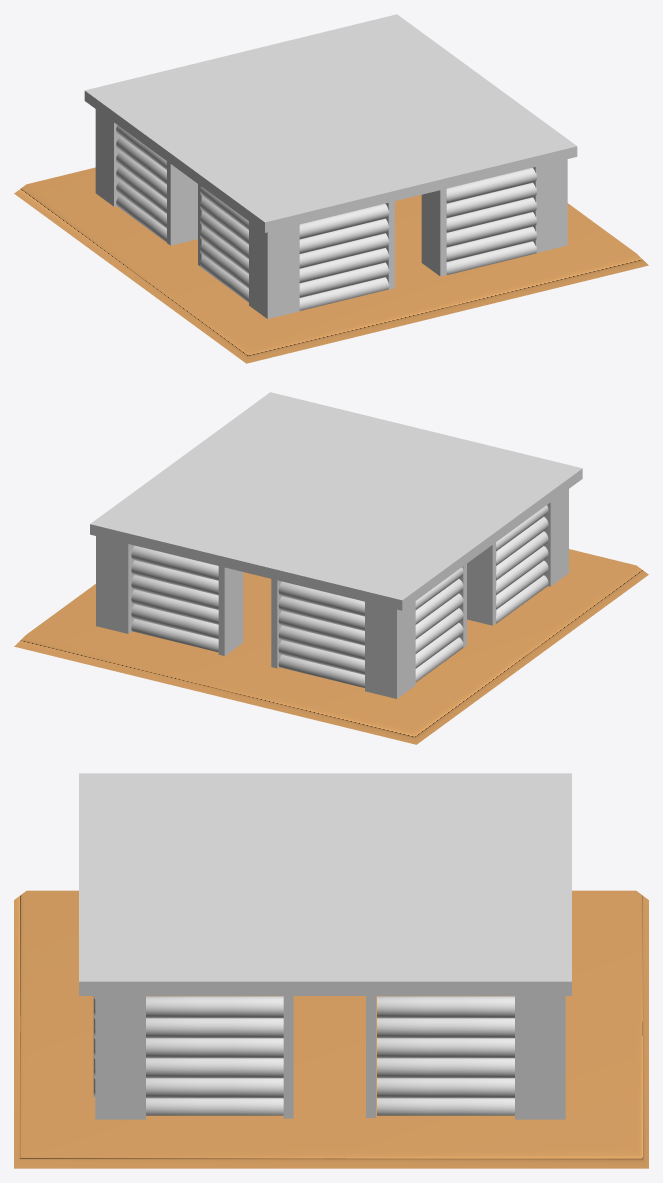
The model's file is fallback.glb.
3 views of the same model, one above another, from view 1: azimuth 30°, elevation 25°; view 2: azimuth 150°, elevation 25°; view 3: azimuth 270°, elevation 25° (orthographic). The views are drawn at different scales.
Parts seen in each view (by area): view 1: Cube.004, Cube, Cylinder.001, Cylinder.002, Cube.001, Cube.002, Cube.007, Cube.008, Cube.003; view 2: Cube.004, Cube, Cylinder.001, Cylinder.002, Cube.003, Cube.005, Cube.006, Cube.008, Cube.001; view 3: Cube.004, Cube, Cylinder.002, Cube.002, Cube.005, Cube.009.
Part boxes in pixels (x1=…): Cube.004: x1=84, y1=14, x2=577, y2=232; Cube: x1=14, y1=167, x2=648, y2=363; Cylinder.001: x1=299, y1=167, x2=536, y2=310; Cylinder.002: x1=116, y1=125, x2=248, y2=302; Cube.001: x1=249, y1=221, x2=299, y2=318; Cube.002: x1=533, y1=159, x2=567, y2=252; Cube.007: x1=385, y1=188, x2=446, y2=289; Cube.008: x1=167, y1=161, x2=204, y2=265; Cube.003: x1=95, y1=109, x2=120, y2=206; Cube.004: x1=90, y1=392, x2=582, y2=610; Cube: x1=14, y1=549, x2=648, y2=744; Cylinder.001: x1=131, y1=545, x2=364, y2=687; Cylinder.002: x1=415, y1=505, x2=548, y2=682; Cube.003: x1=365, y1=601, x2=415, y2=698; Cube.005: x1=96, y1=536, x2=134, y2=633; Cube.006: x1=218, y1=566, x2=281, y2=668; Cube.008: x1=459, y1=542, x2=496, y2=647; Cube.001: x1=544, y1=489, x2=568, y2=586; Cube.004: x1=79, y1=773, x2=571, y2=995; Cube: x1=14, y1=890, x2=648, y2=1168; Cylinder.002: x1=146, y1=996, x2=514, y2=1115; Cube.002: x1=95, y1=996, x2=145, y2=1119; Cube.005: x1=515, y1=996, x2=565, y2=1119; Cube.009: x1=283, y1=996, x2=375, y2=1118.
Size of the model in its own units: 3.55 by 0.955 by 3.55.
